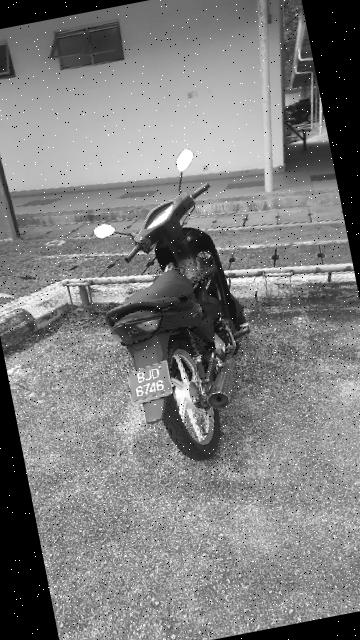License_Plate: (124, 359, 181, 409)
motorcycle: (73, 143, 277, 478)
